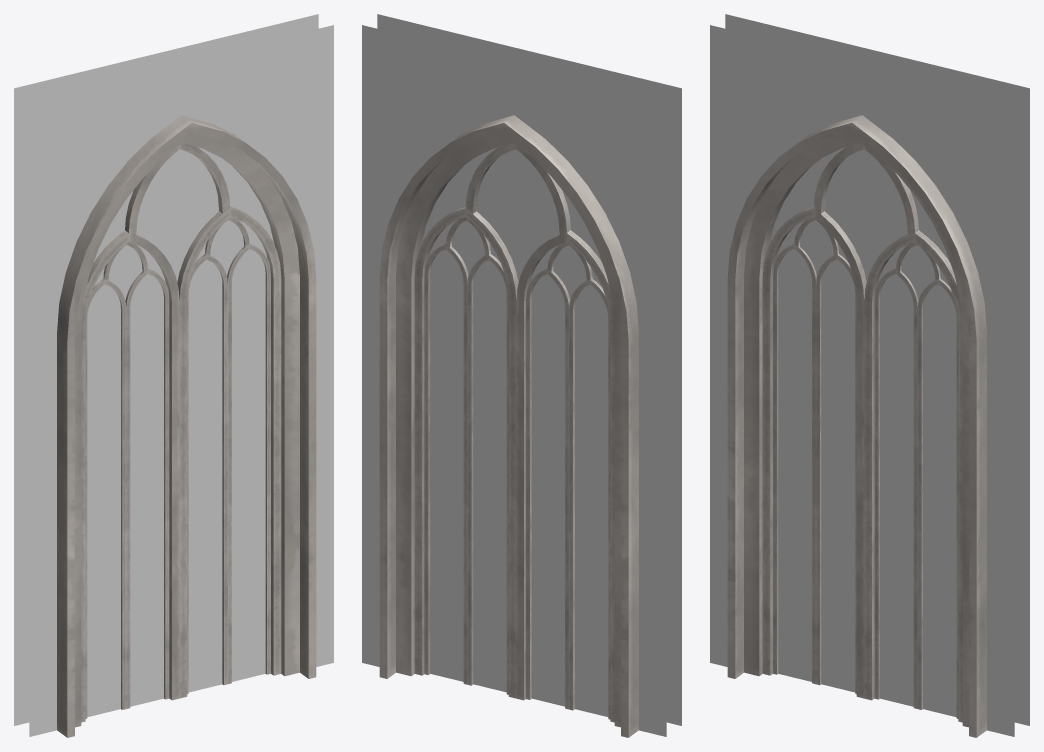
Rendered from Wall_Window_F_C.fbx.
3 renders of one model, left to right at view 1: azimuth 30°, elevation 25°; view 2: azimuth 150°, elevation 25°; view 3: azimuth 330°, elevation 25°, orthographic.
Visible parts, largest first — view 1: Wall_Window_F_C; view 2: Wall_Window_F_C; view 3: Wall_Window_F_C.
Part boxes in pixels (x1,y1,x2,y2): Wall_Window_F_C: (14,14,333,737); Wall_Window_F_C: (362,14,681,737); Wall_Window_F_C: (710,14,1029,737).
Bounding box in the file's own units: 3 × 0.6115 × 6.
